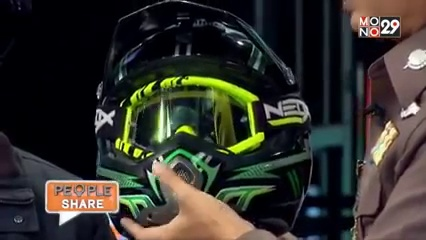helmet: (86, 8, 319, 225)
